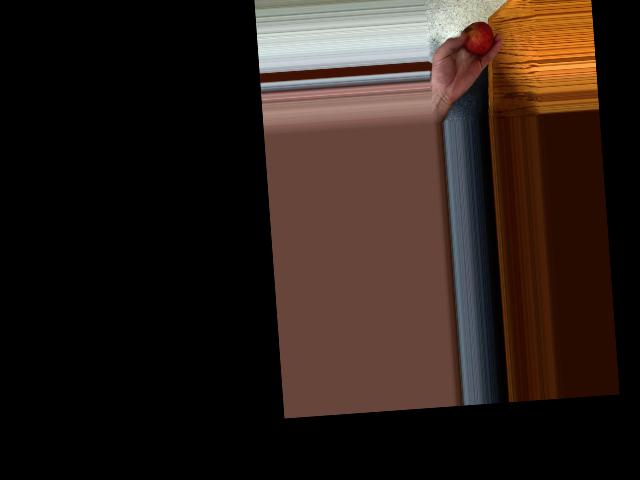apple: (459, 19, 494, 56)
